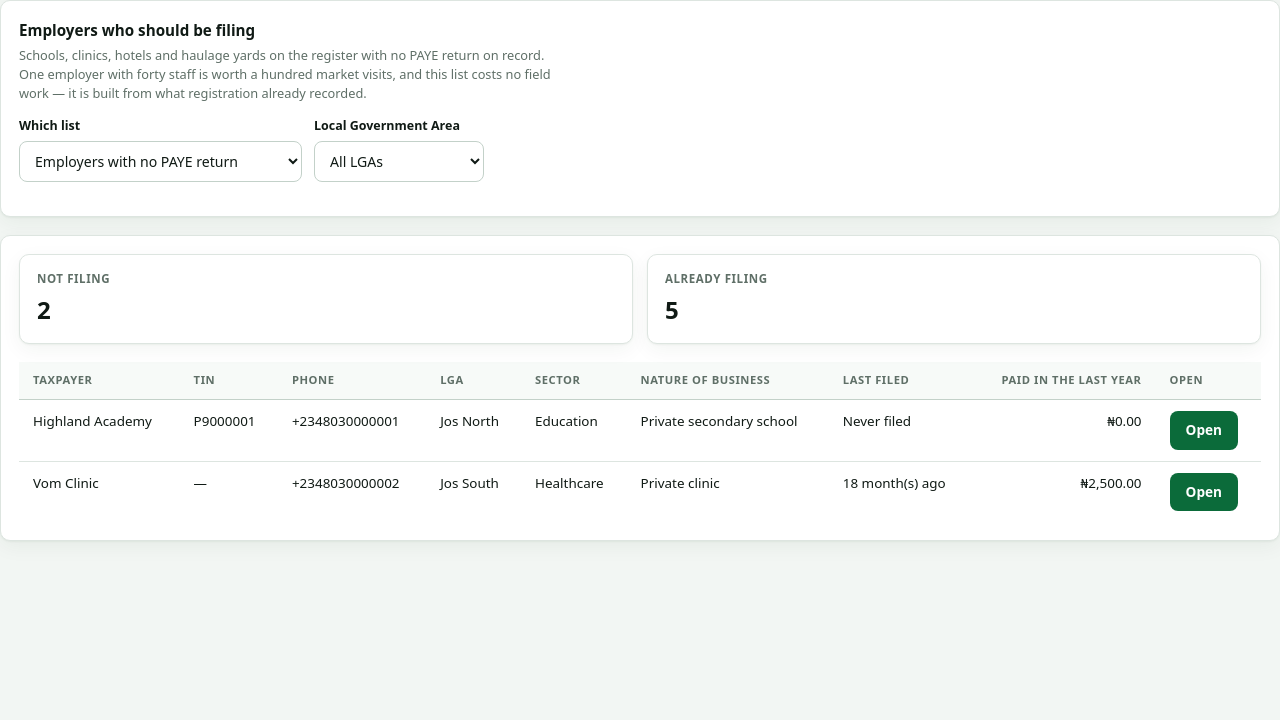
it: the return form › reports the invoice and the employees with no TIN
expect the text "Highland Academy" is shown: met, box [19,400,180,461]
Click the button "Open" in the row of "Highland Academy": (1204, 430) [1170,411,1238,450]
(page scrolled)
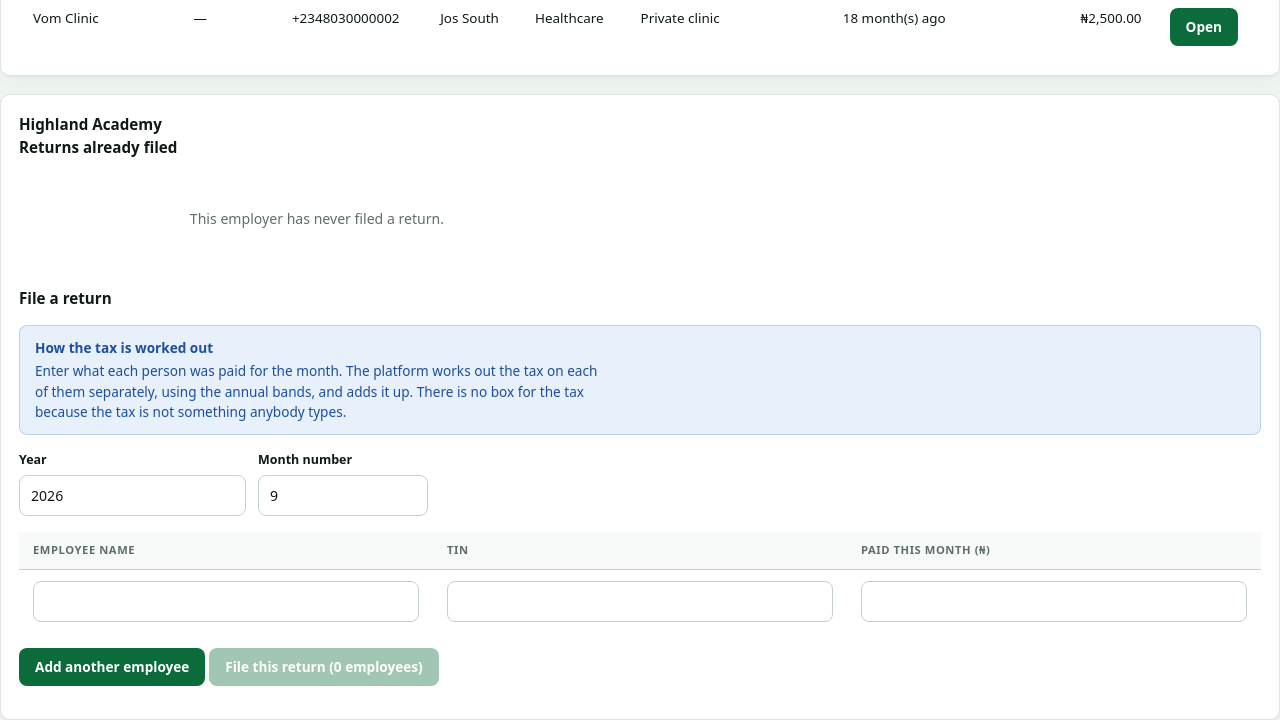
expect the heading "File a return" is shown: met, box [19,288,112,308]
In the field named "Employee name 1": (226, 602) [33,581,419,622], type "Ada"
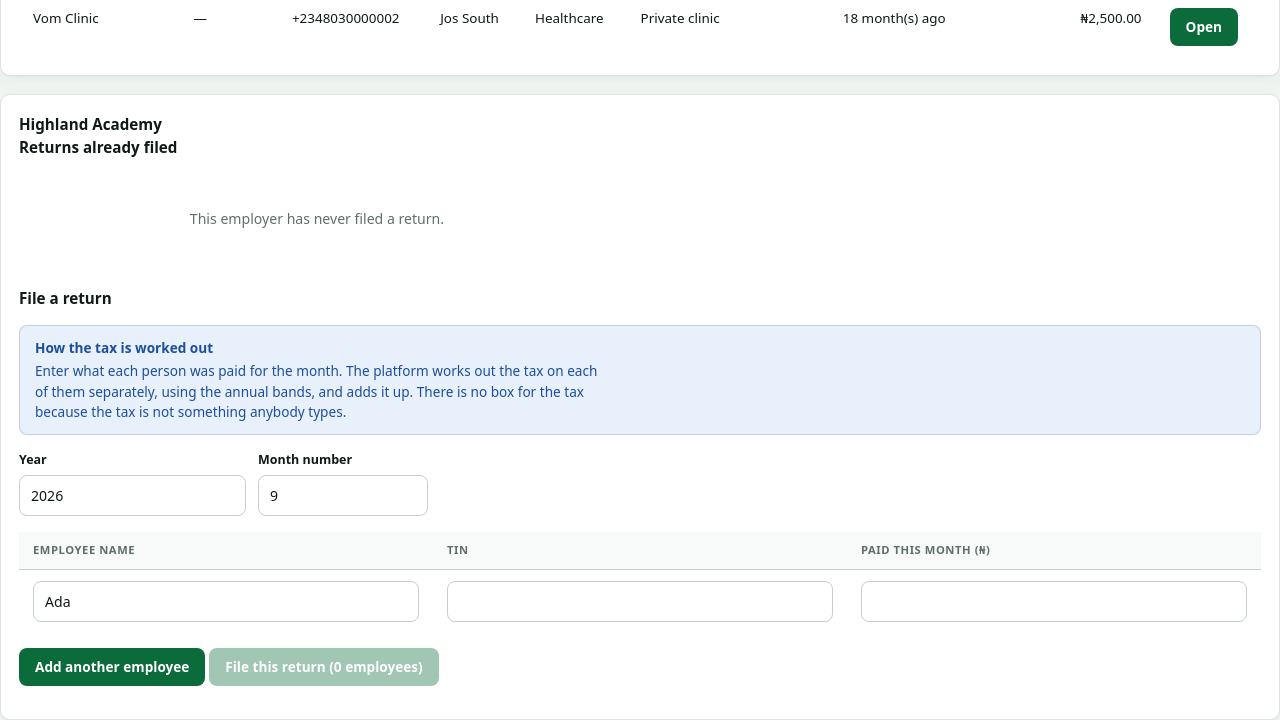
In the field named "Paid this month (₦) 1": (1054, 602) [861,581,1247,622], type "120000"
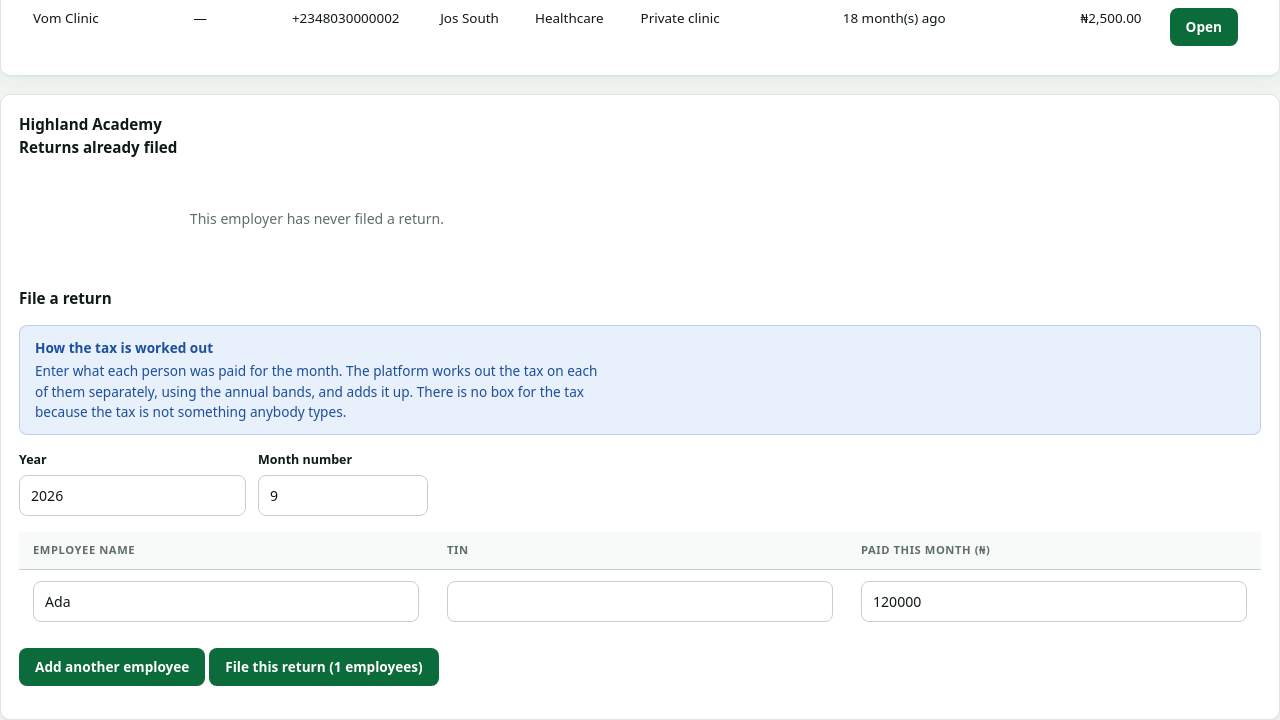
Click the button "File this return (1 employees)": (324, 667) [209,648,439,686]
(page scrolled)
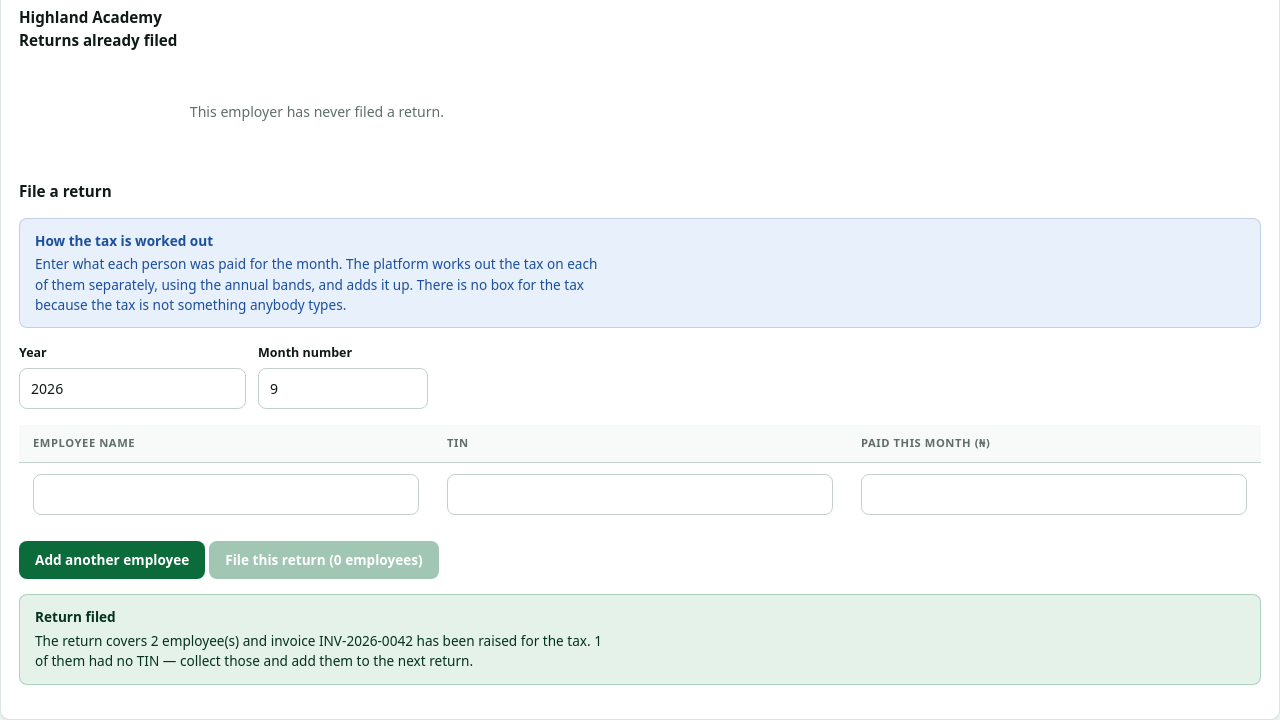
expect the text "INV-2026-0042" is shown: met, box [35,631,591,650]
expect the text "had no TIN" shows "1 of them": met, box [35,631,602,670]
